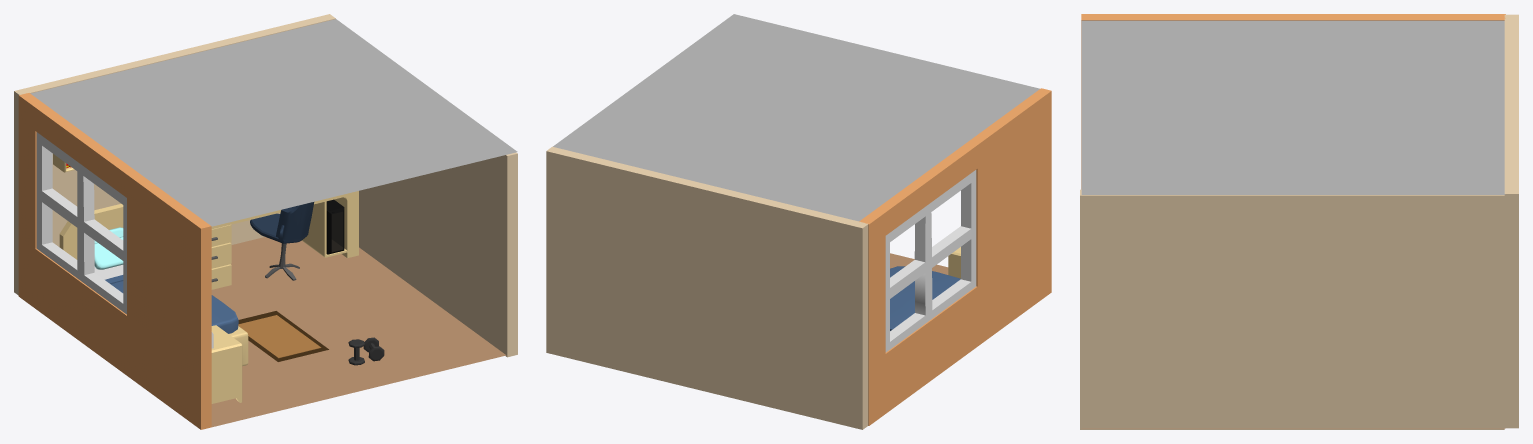
The model's file is room.glb.
3 views of the same model, side by side, from view 1: azimuth 30°, elevation 25°; view 2: azimuth 150°, elevation 25°; view 3: azimuth 270°, elevation 25° (orthographic). The views are drawn at different scales.
Parts seen in each view (by area): view 1: pCube201; view 2: pCube201; view 3: pCube201.
Boxes of the visible parts, left/top/right/bottom form: pCube201: left=14, top=14, right=517, bottom=429; pCube201: left=546, top=14, right=1051, bottom=429; pCube201: left=1080, top=14, right=1518, bottom=429.
Bounding box in the file's own units: 30.12 × 18.42 × 31.
